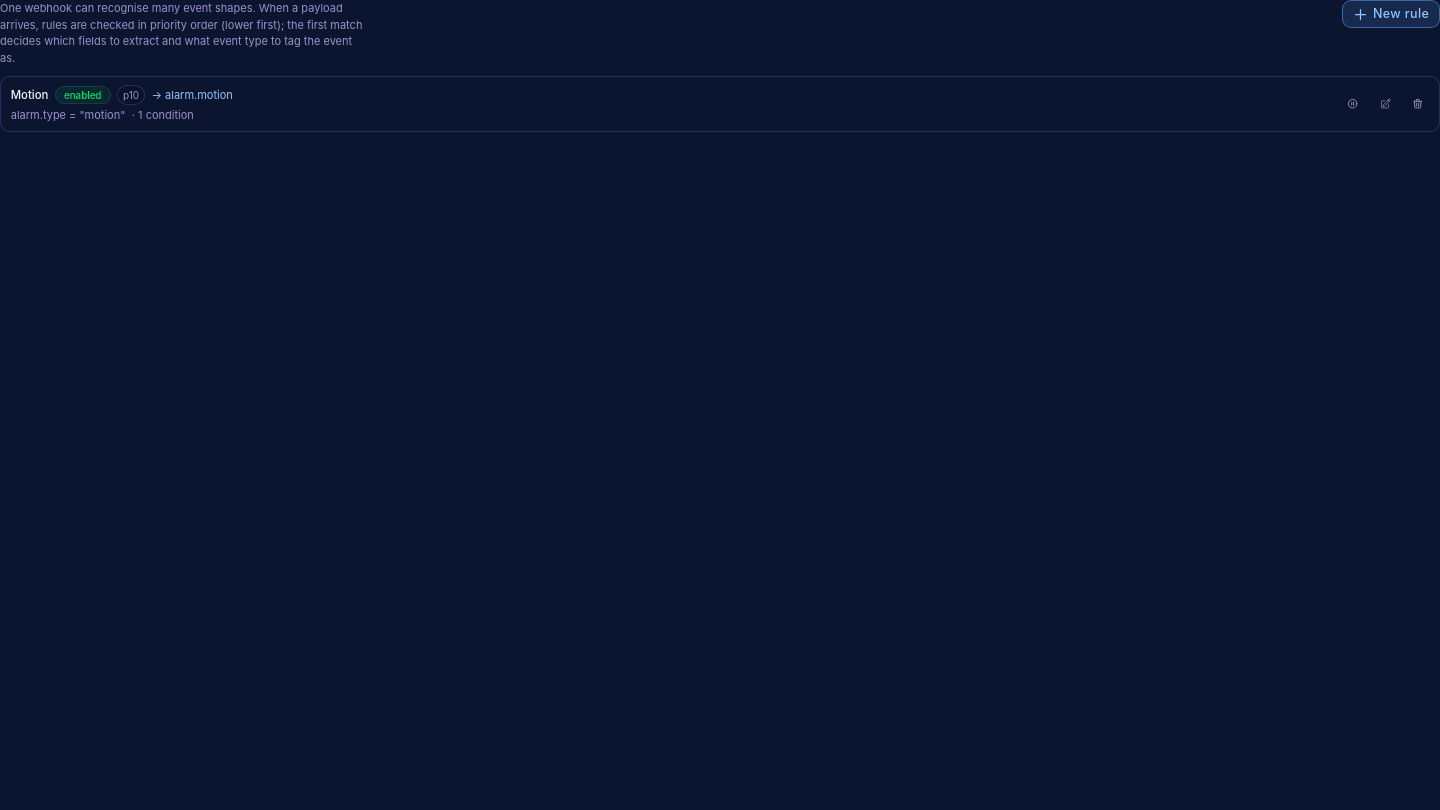
deleting a rule › leaves the rule alone when the operator backs out
This screenshot has width=1440, height=810.
Click the button titled "Delete". click: (1418, 104)
box: x1=1406 y1=93 x2=1429 y2=116
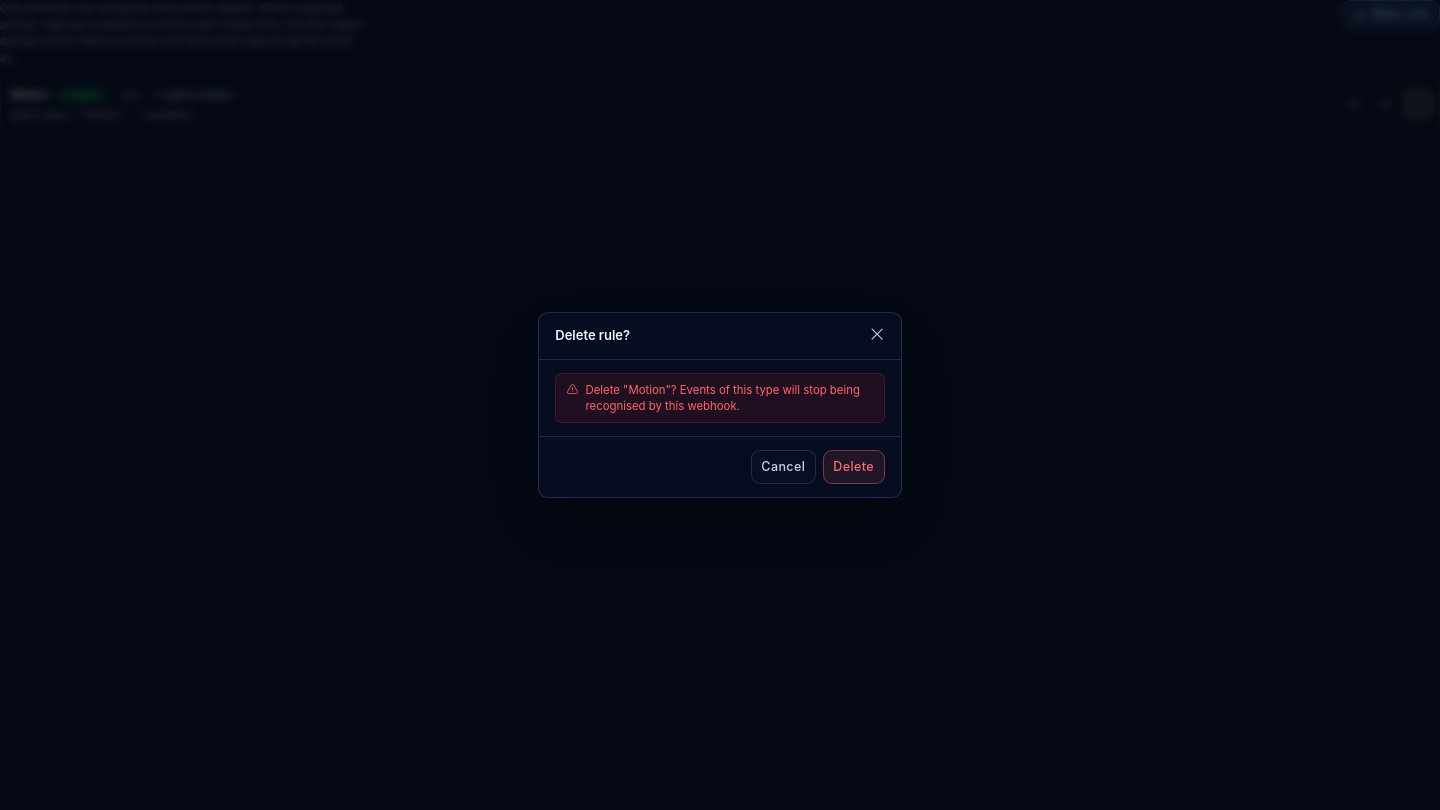
Click the button "Cancel". click: (783, 467)
box: x1=751 y1=450 x2=816 y2=484
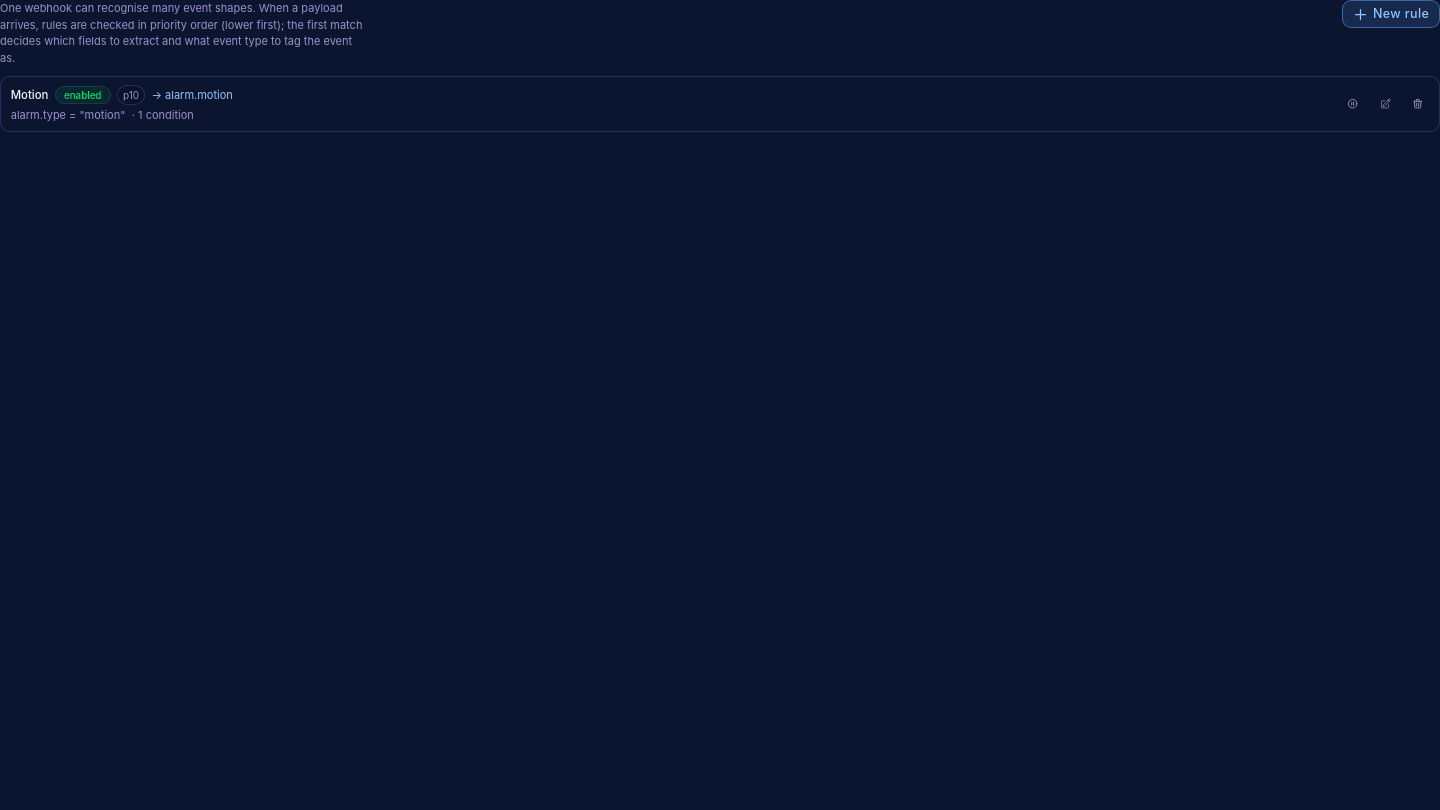
Check: the heading "Delete rule?" is gone
